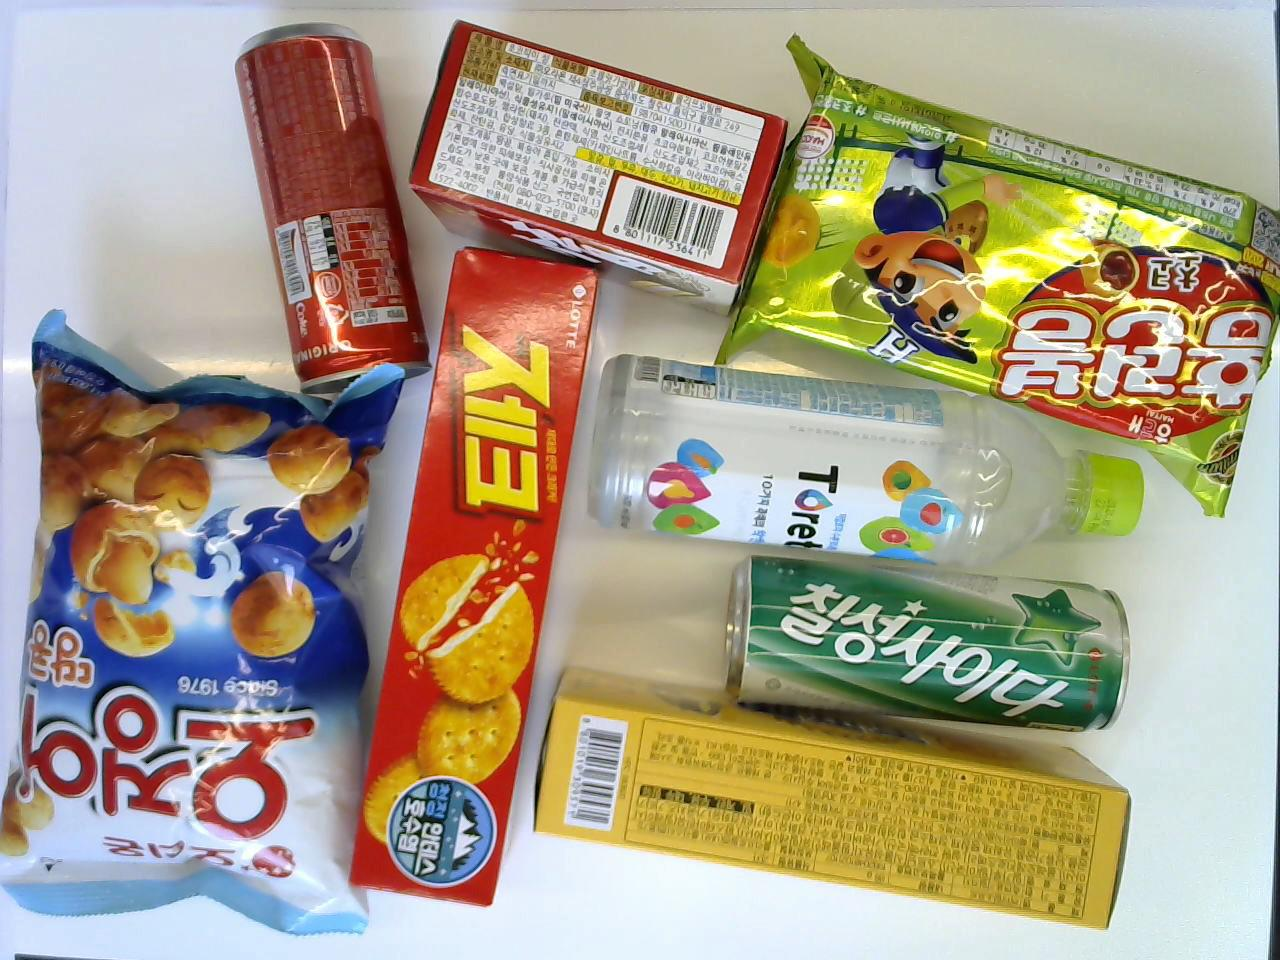buttering: (532, 663, 1137, 933)
chocopie: (409, 15, 786, 318)
cidar: (718, 548, 1135, 736)
coke: (233, 19, 430, 398)
homerunball: (714, 29, 1275, 518)
squid_peanut: (0, 310, 405, 939)
toreta: (584, 353, 1146, 576)
zec: (344, 246, 603, 906)
